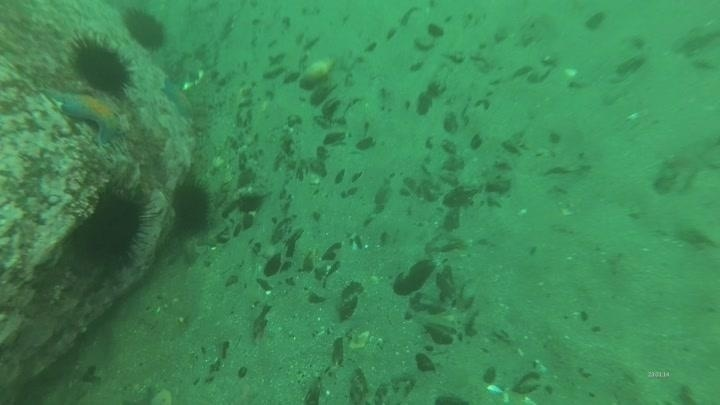echinus: (72, 185, 153, 270), (67, 33, 136, 97), (169, 178, 214, 236), (121, 6, 169, 53)
starfish: (58, 91, 127, 148), (159, 77, 198, 120)
